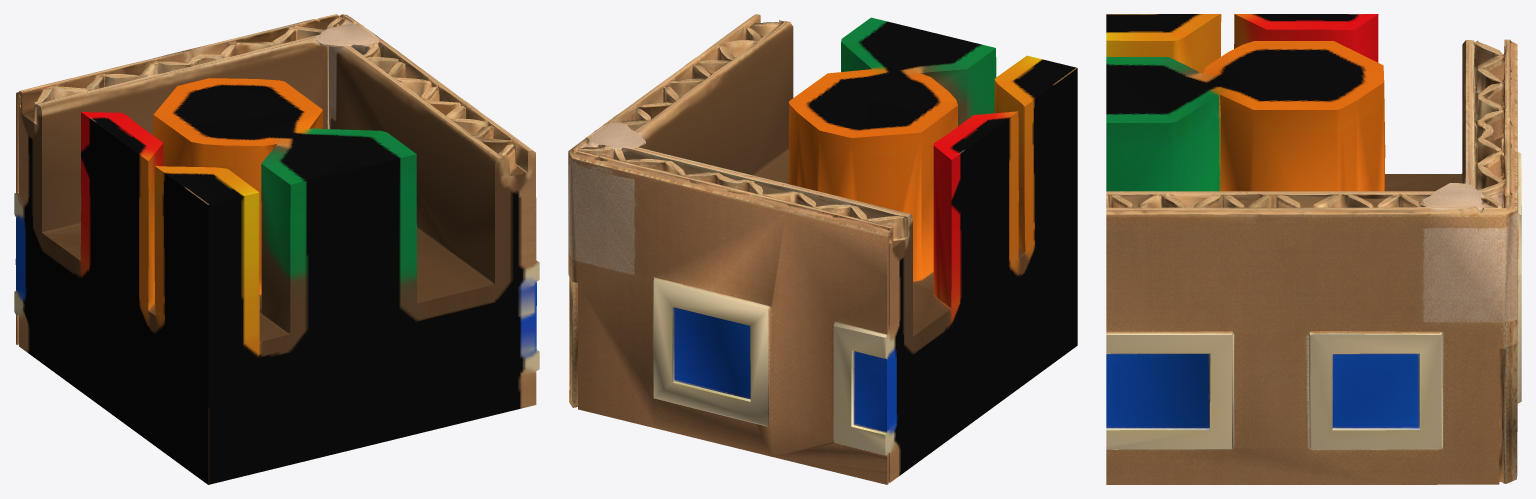
Rendered from 8-upper-walls-back-right.fbx.
3 renders of one model, left to right at view 1: azimuth 30°, elevation 25°; view 2: azimuth 150°, elevation 25°; view 3: azimuth 270°, elevation 25°, orthographic. The views are drawn at different scales.
Parts seen in each view (by area): view 1: upper-walls-back-right; view 2: upper-walls-back-right; view 3: upper-walls-back-right.
Part boxes in pixels (<box>): upper-walls-back-right: <box>14,14,539,484</box>; upper-walls-back-right: <box>568,14,1077,484</box>; upper-walls-back-right: <box>1106,14,1521,484</box>.
Bounding box in the file's own units: 5045 × 4070 × 5113.
1 material, 1 textured.
